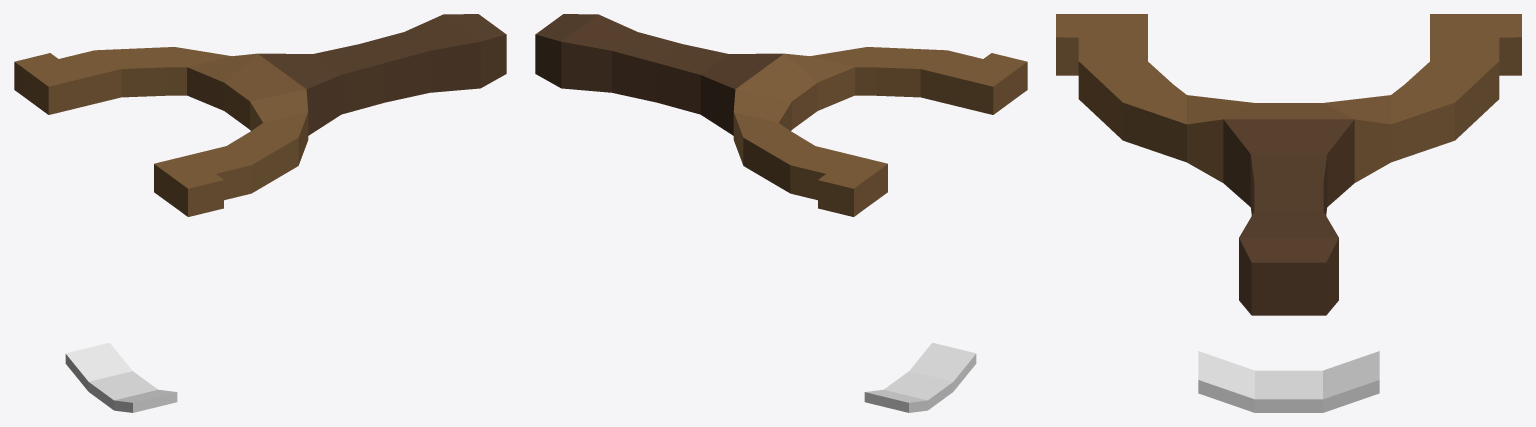
The model's file is slingshotModel.fbx.
3 renders of one model, left to right at view 1: azimuth 30°, elevation 25°; view 2: azimuth 150°, elevation 25°; view 3: azimuth 270°, elevation 25°, orthographic. The views are drawn at different scales.
Visible parts, largest first — view 1: Slingshot, Sling; view 2: Slingshot, Sling; view 3: Slingshot, Sling.
Boxes of the visible parts, bbox=[...] form: Slingshot: bbox=[14, 14, 506, 216]; Sling: bbox=[65, 342, 177, 412]; Slingshot: bbox=[535, 14, 1027, 216]; Sling: bbox=[864, 342, 976, 412]; Slingshot: bbox=[1056, 14, 1521, 315]; Sling: bbox=[1198, 351, 1379, 412].
Size of the model in its own units: 291 by 202 by 223.
